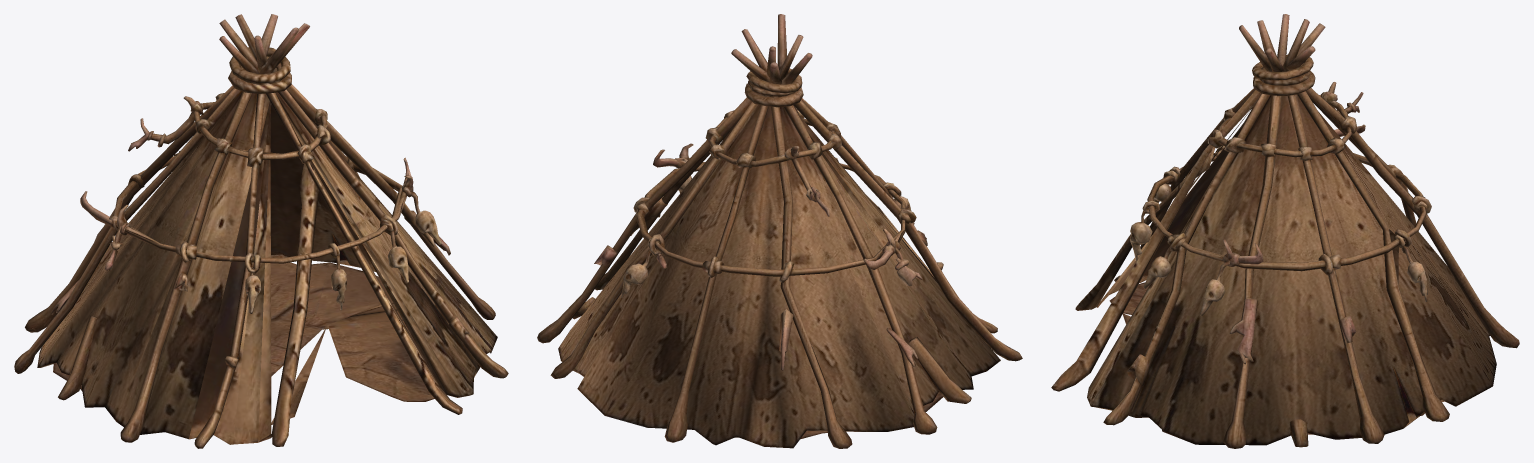
The model's file is tent.glb.
3 renders of one model, left to right at view 1: azimuth 30°, elevation 25°; view 2: azimuth 150°, elevation 25°; view 3: azimuth 270°, elevation 25°, orthographic. The views are drawn at different scales.
Visible parts, largest first — view 1: Mesh_0; view 2: Mesh_0; view 3: Mesh_0.
Boxes of the visible parts, bbox=[...] form: Mesh_0: bbox=[14, 14, 508, 448]; Mesh_0: bbox=[537, 14, 1022, 448]; Mesh_0: bbox=[1051, 14, 1519, 448].
Size of the model in its own units: 0.9204 by 0.7139 by 0.9072.
1 material, 1 textured.
